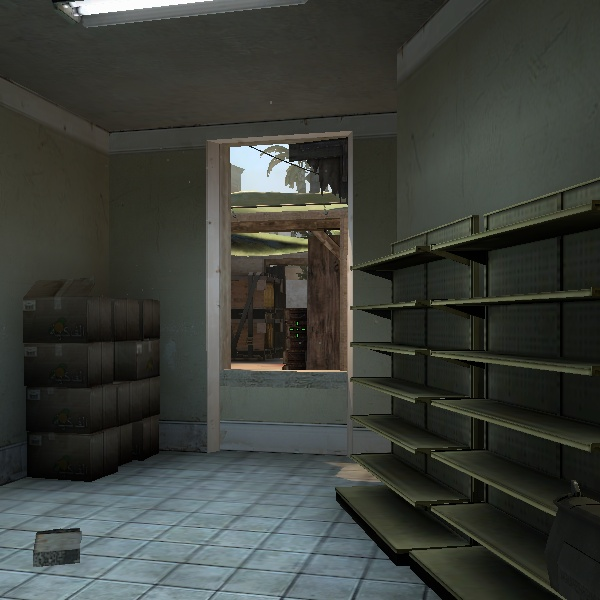t_body: (279, 318, 310, 369)
